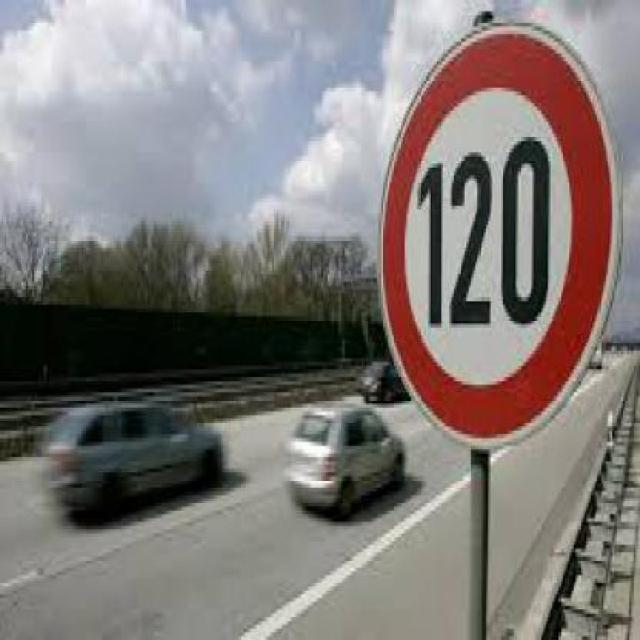forb_speed_over_120: (380, 29, 615, 446)
